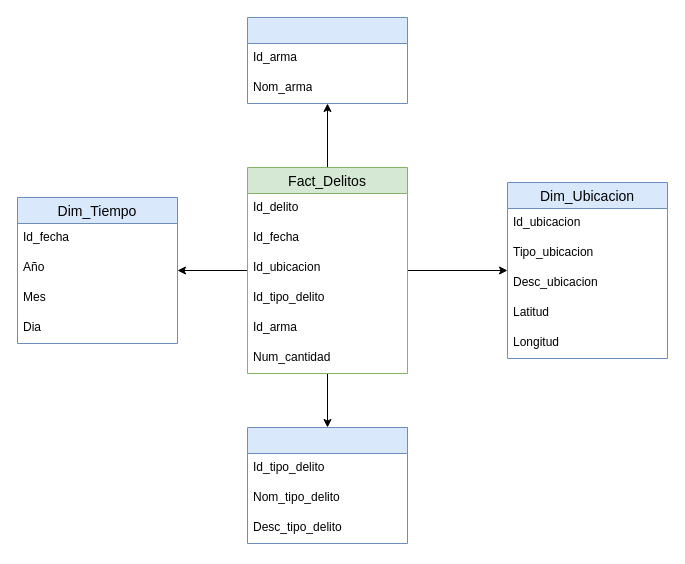
Image size: 685x564. Some labels were removed from this diagram. The shapes that lost their labels are listed below. From the top down, each one's box as (x1, y1, x2, y2) in pixels, then its label:
(246, 16, 408, 104): Dim_Arma
(246, 426, 408, 544): Dim_Tipo_Delito
